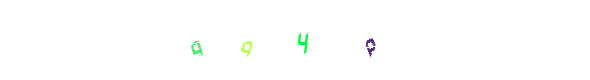4: (255, 0, 335, 80)
P: (330, 0, 410, 80)
Q: (211, 0, 291, 80), (217, 0, 297, 80)
